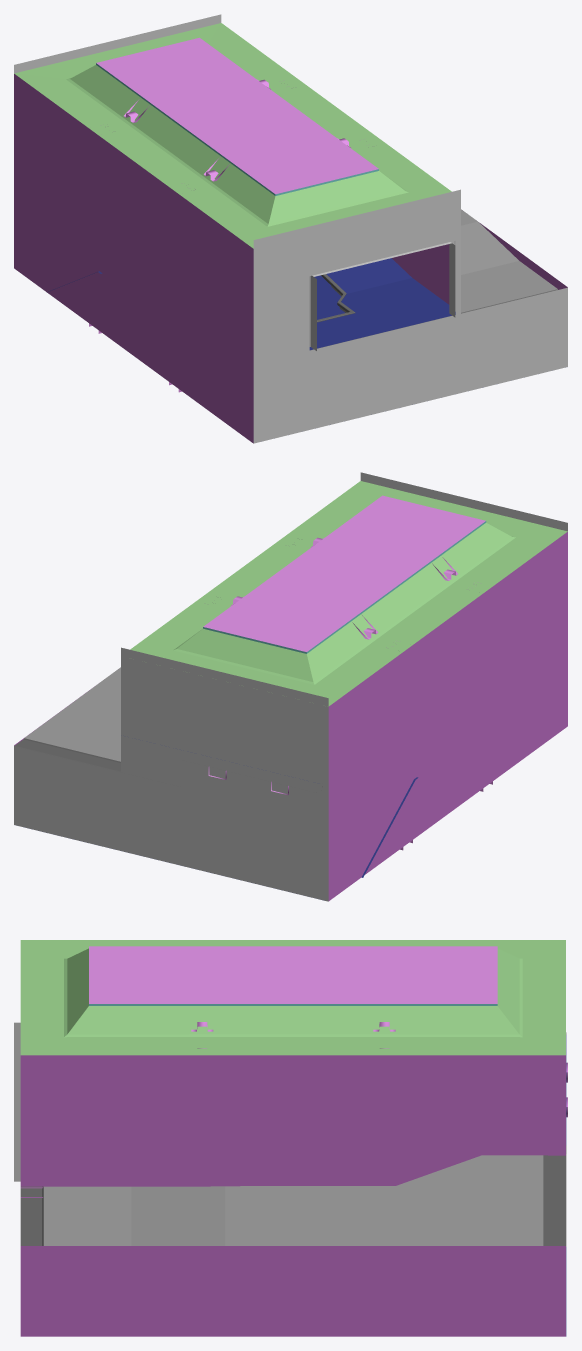
Rendered from RoomFirstPerson.fbx.
3 renders of one model, top to bottom at view 1: azimuth 30°, elevation 25°; view 2: azimuth 150°, elevation 25°; view 3: azimuth 270°, elevation 25°, orthographic. The views are drawn at different scales.
Visible parts, largest first — view 1: Room_FirstPerson, Room_FirstPerson_Floor, Room_FirstPerson_Platforms; view 2: Room_FirstPerson, Room_FirstPerson_Platforms; view 3: Room_FirstPerson, Room_FirstPerson_Platforms.
Part boxes in pixels (left/top/right/bottom): Room_FirstPerson: left=14, top=14, right=567, bottom=443; Room_FirstPerson_Floor: left=47, top=258, right=455, bottom=350; Room_FirstPerson_Platforms: left=89, top=79, right=557, bottom=392; Room_FirstPerson: left=14, top=472, right=567, bottom=901; Room_FirstPerson_Platforms: left=15, top=537, right=492, bottom=850; Room_FirstPerson: left=14, top=940, right=565, bottom=1336; Room_FirstPerson_Platforms: left=20, top=1022, right=567, bottom=1246.
Bounding box in the file's own units: 18.29 × 12.3 × 24.39.
